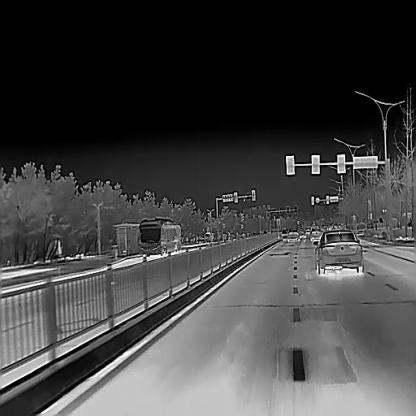car: (315, 229, 363, 274), (137, 217, 181, 255), (309, 227, 321, 240), (287, 229, 299, 241), (205, 231, 213, 241), (298, 229, 304, 238), (305, 228, 309, 236)
